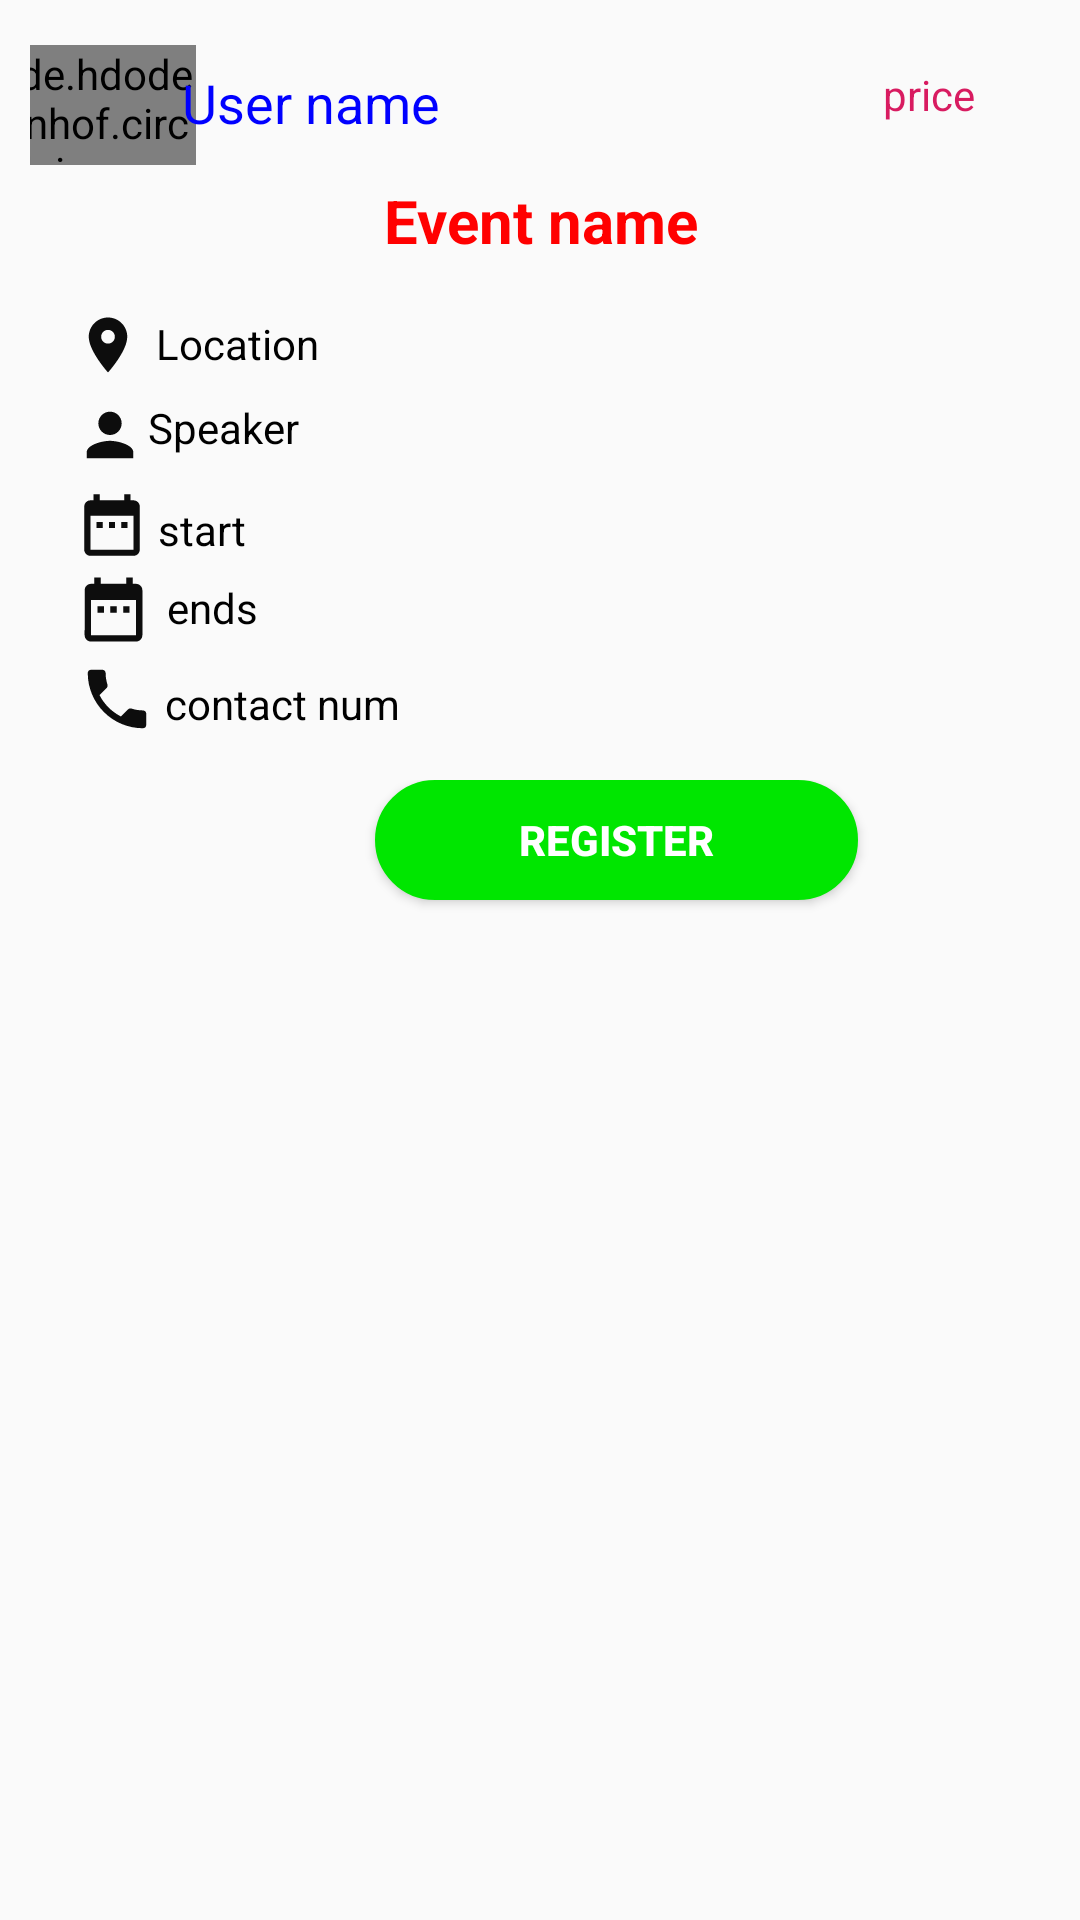

Icon bounding boxes for this 1080px×1920px phone screenshot, format (x1, y1, x2, y2):
blackphone: (87, 669, 147, 729)
